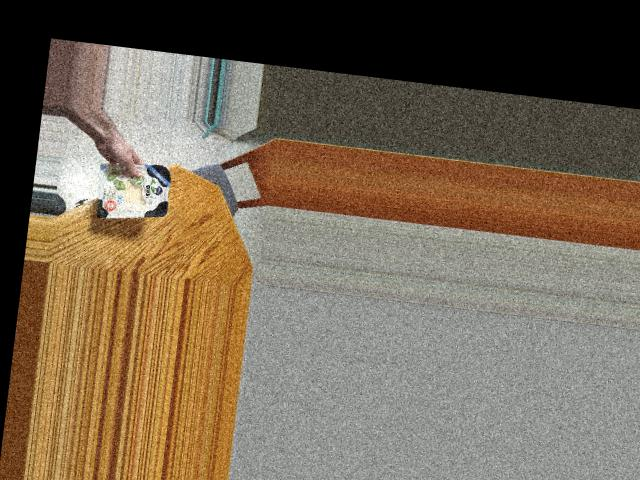cheese: (82, 152, 182, 217)
